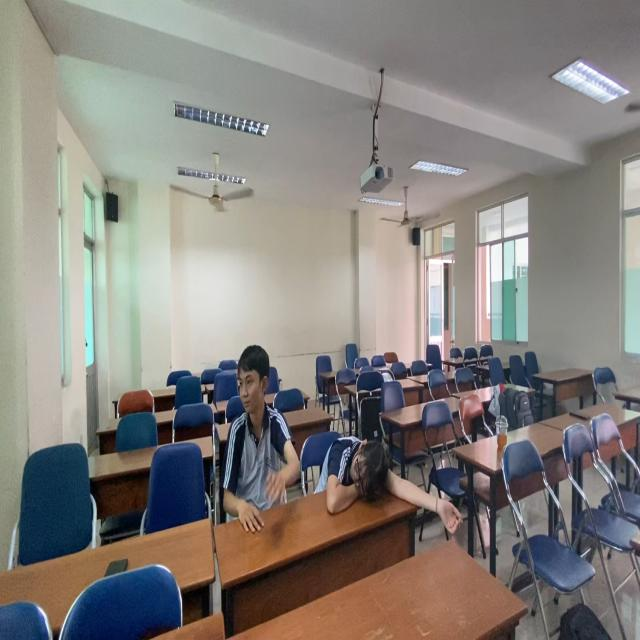sleep: (318, 428, 424, 513)
